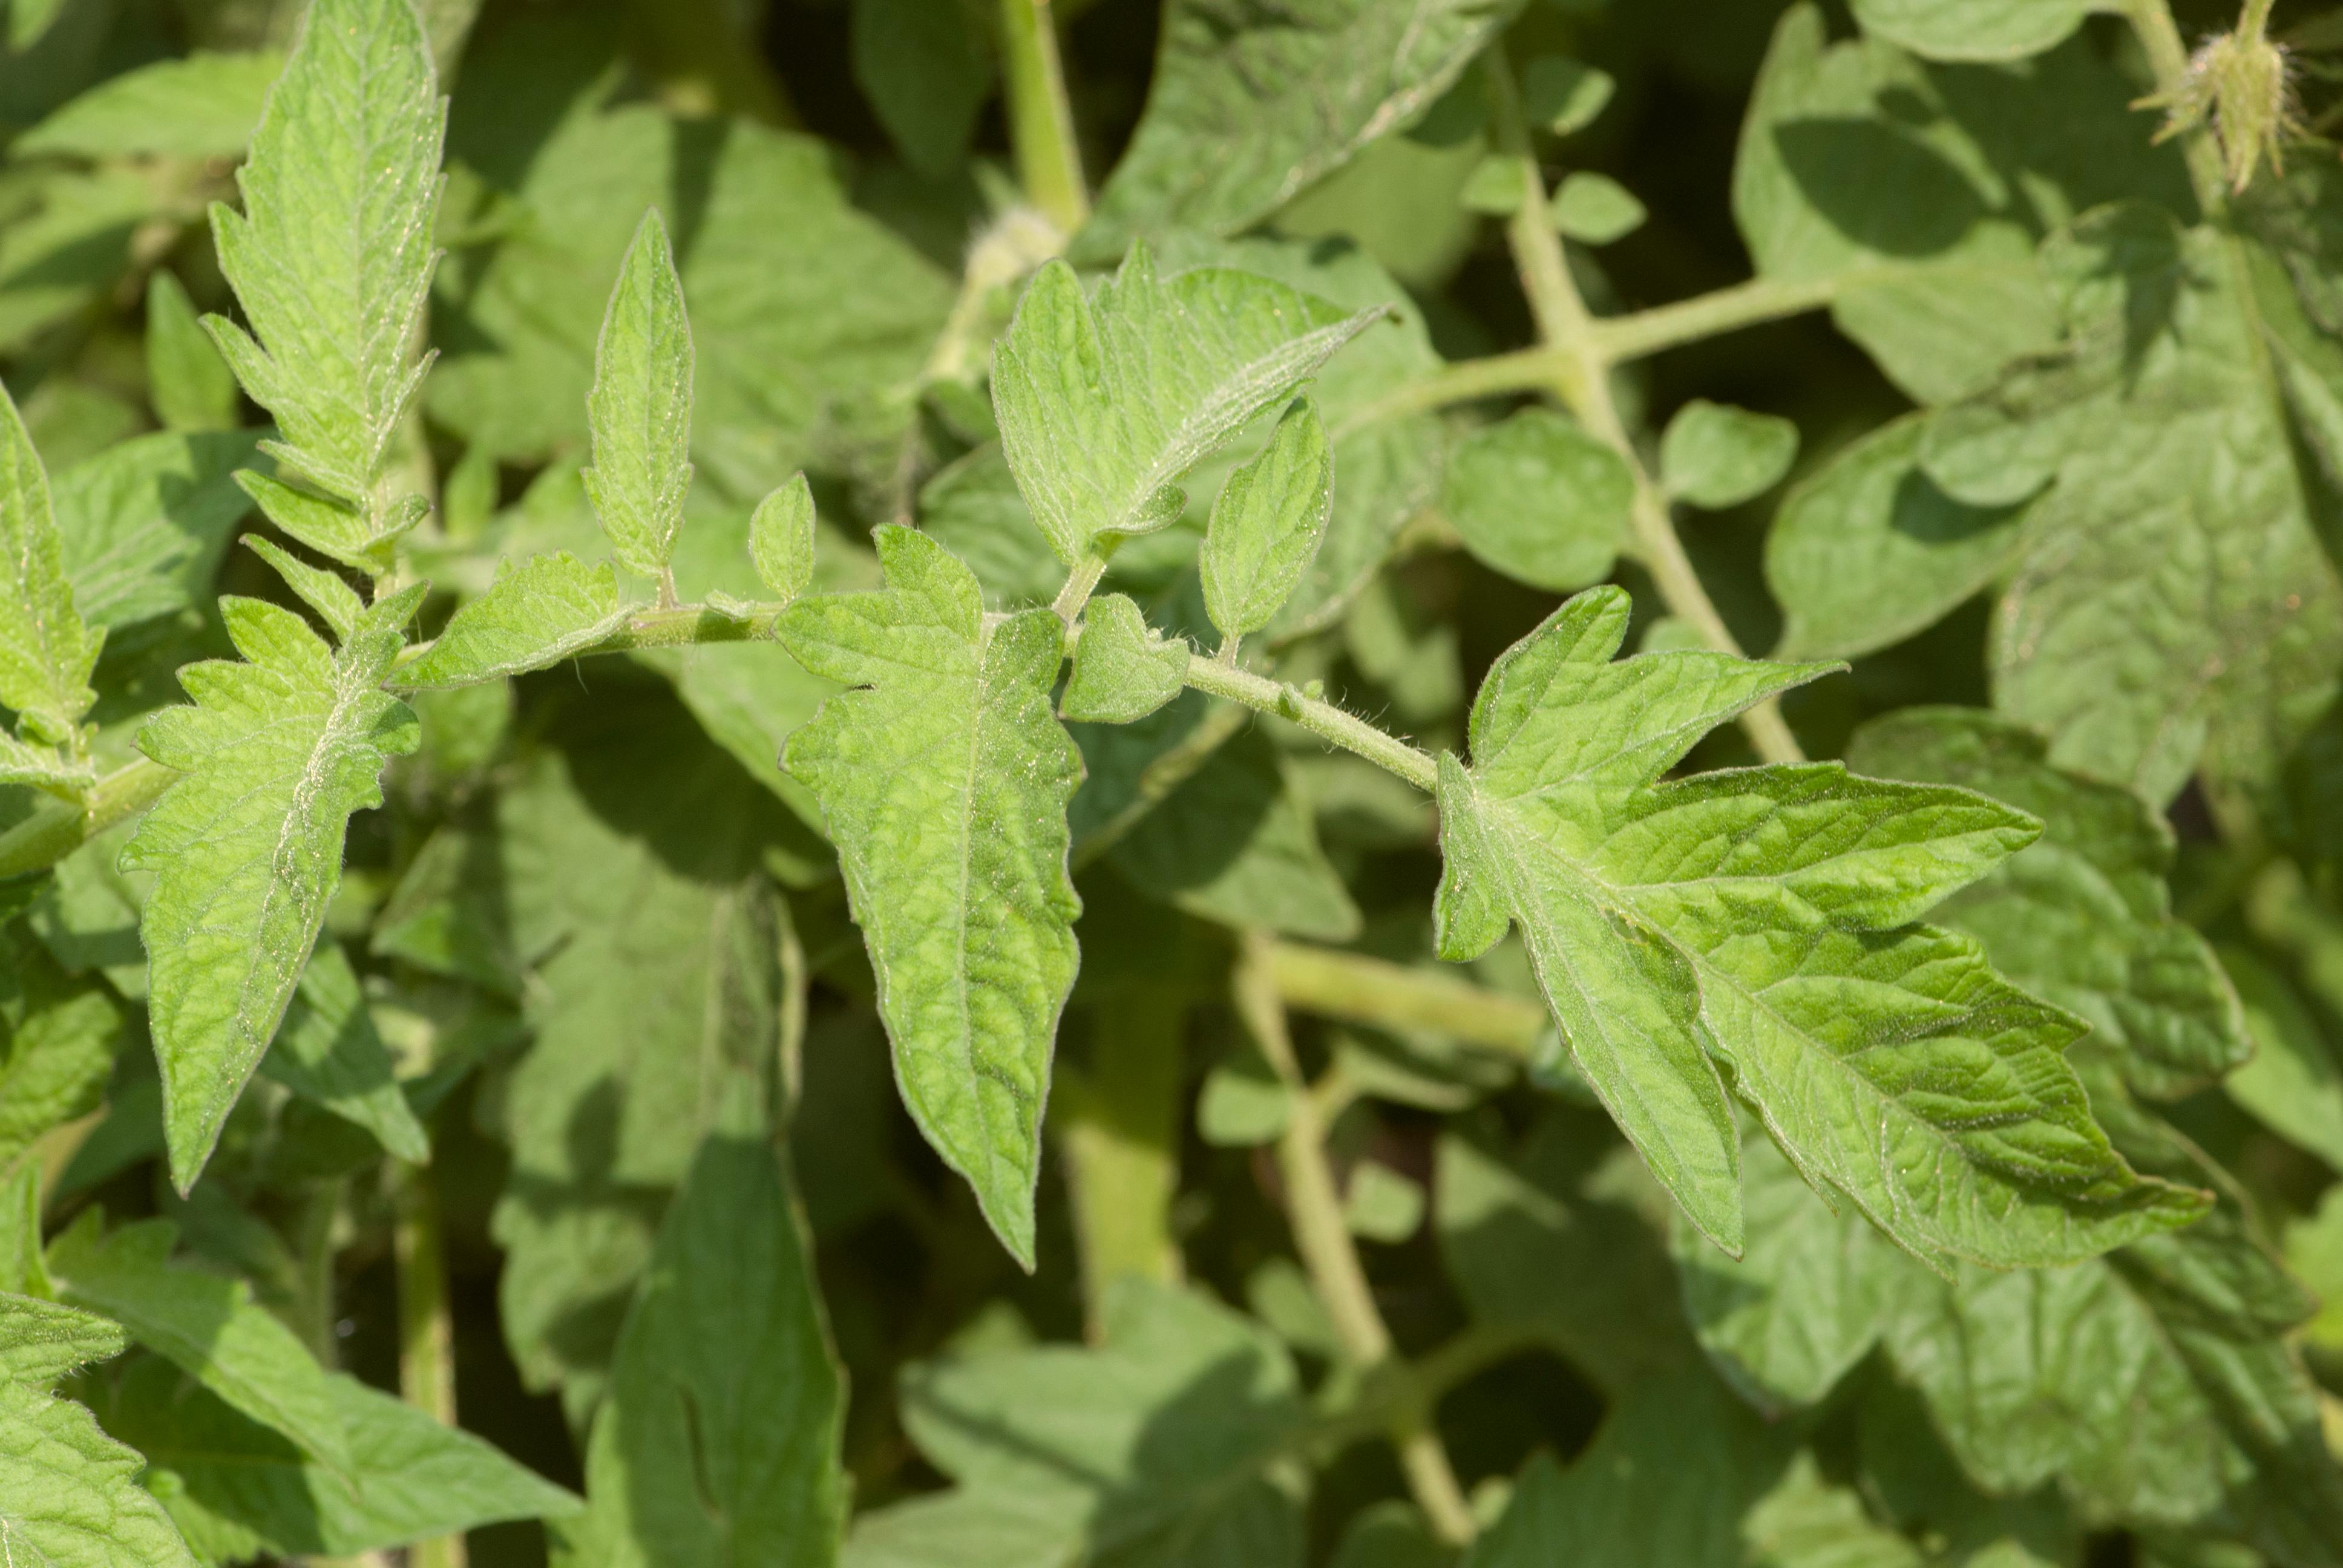Tomato leaf: (1270, 642, 2158, 1290), (47, 535, 469, 1243), (733, 499, 1083, 1297), (962, 184, 1409, 642)
